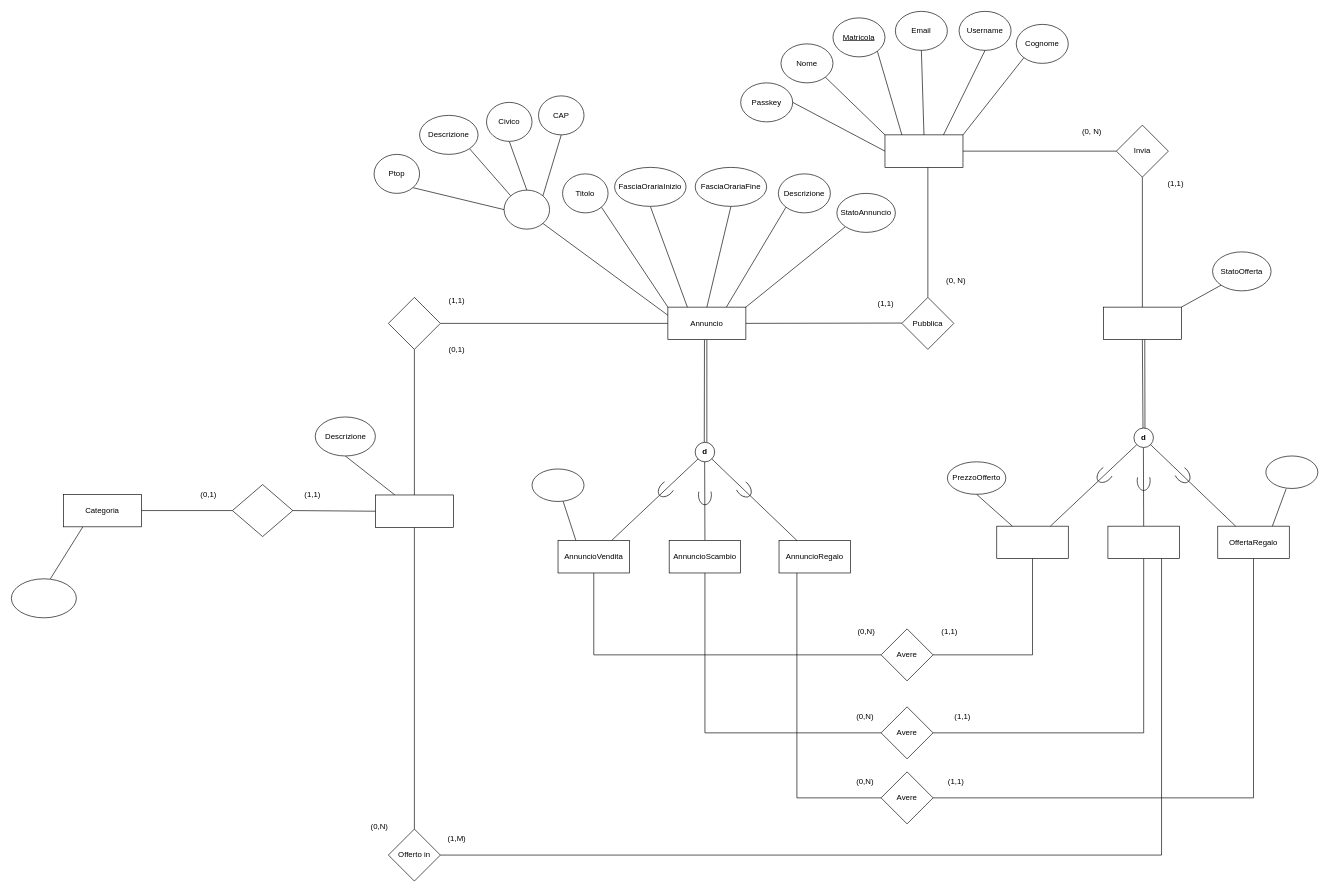
The diagram is 1329 pixels wide and 892 high, and some of its shapes have lost their labels. Each missing label, with the centre of its shape:
"Appartiene a" goes at [262,510].
"Motivazione" goes at [1291,471].
"NomeCategoria" goes at [43,598].
"Offerta" goes at [1142,323].
"OffertaScambio" goes at [1143,542].
"OffertaVendita" goes at [1032,542].
"Oggetto" goes at [414,510].
"Prezzo" goes at [557,484].
"Propone" goes at [414,323].
"Sede" goes at [526,209].
"Studente" goes at [923,150].
